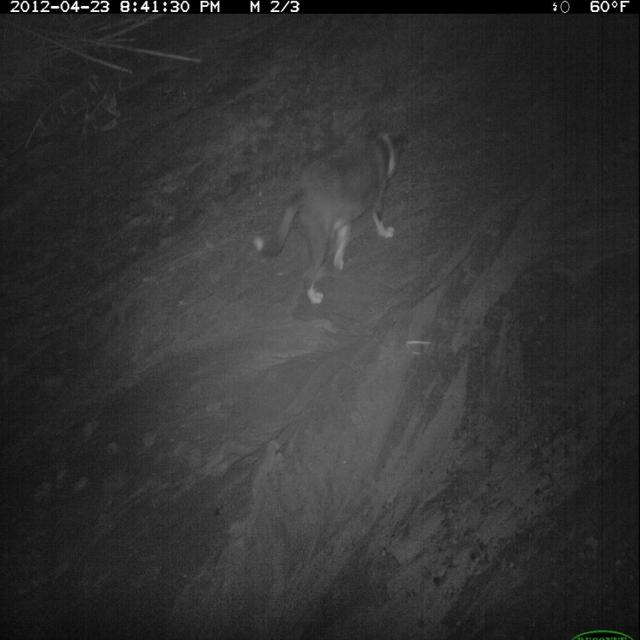dog: (250, 122, 409, 308)
